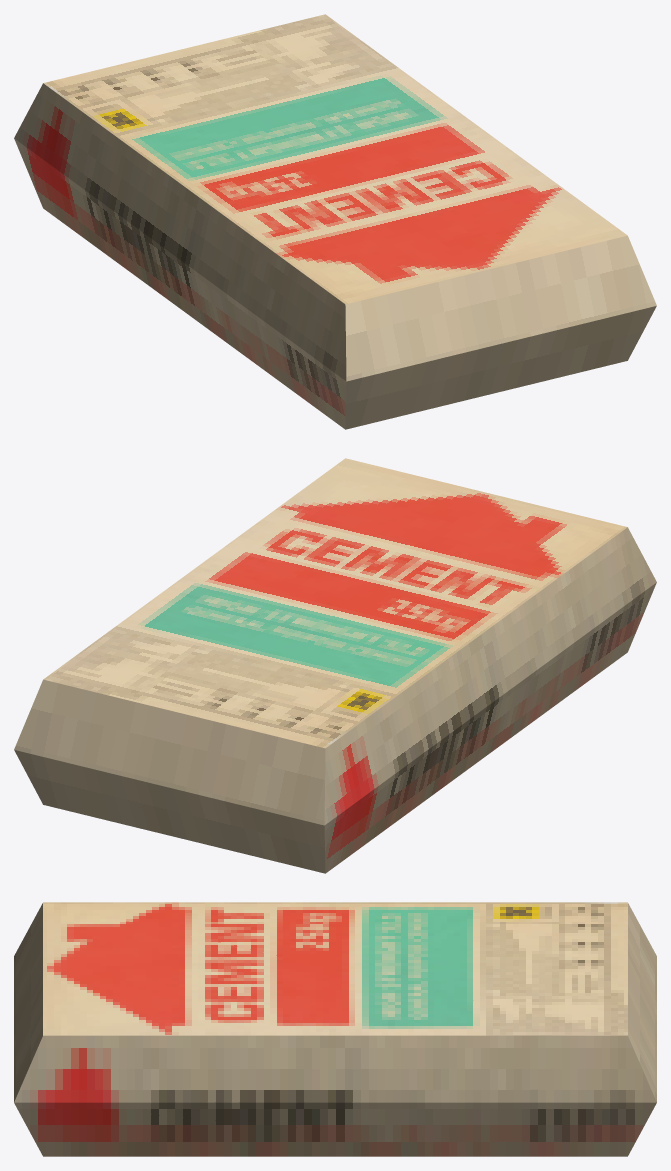
Rendered from cement.glb.
3 renders of one model, top to bottom at view 1: azimuth 30°, elevation 25°; view 2: azimuth 150°, elevation 25°; view 3: azimuth 270°, elevation 25°, orthographic. The views are drawn at different scales.
Visible parts, largest first — view 1: CementBag; view 2: CementBag; view 3: CementBag.
Part boxes in pixels (<box>): CementBag: <box>14,14,656,429</box>; CementBag: <box>14,458,656,873</box>; CementBag: <box>14,902,656,1156</box>.
Size of the model in its own units: 0.7247 by 0.2794 by 1.34.
1 material, 1 textured.
